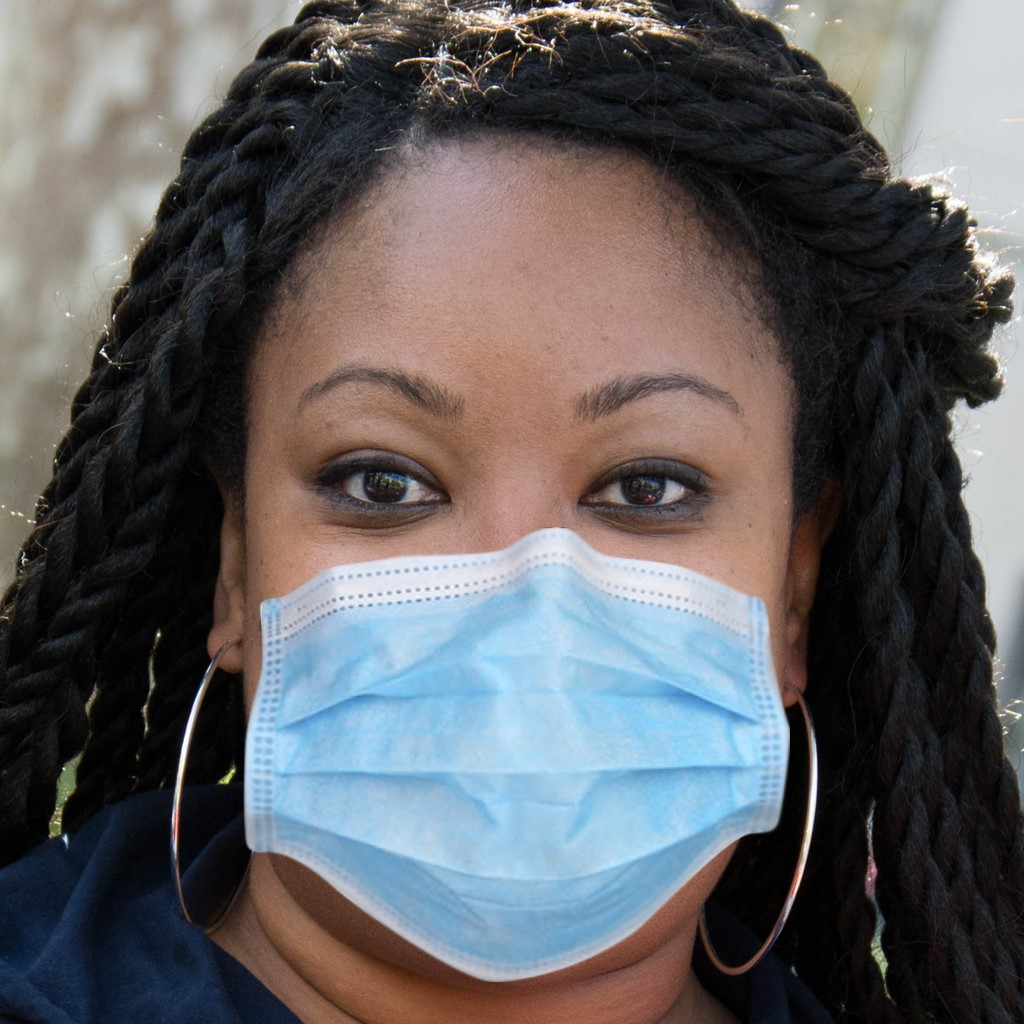con_mascara: (225, 142, 823, 970)
